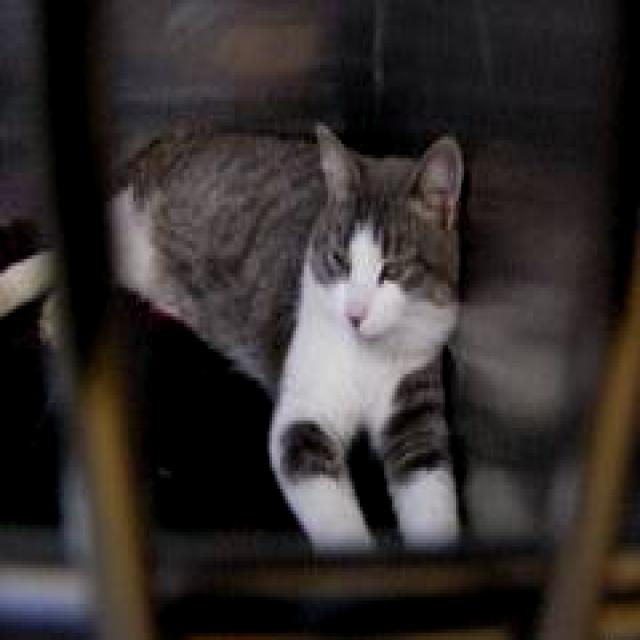Kucing: (68, 83, 556, 526)
